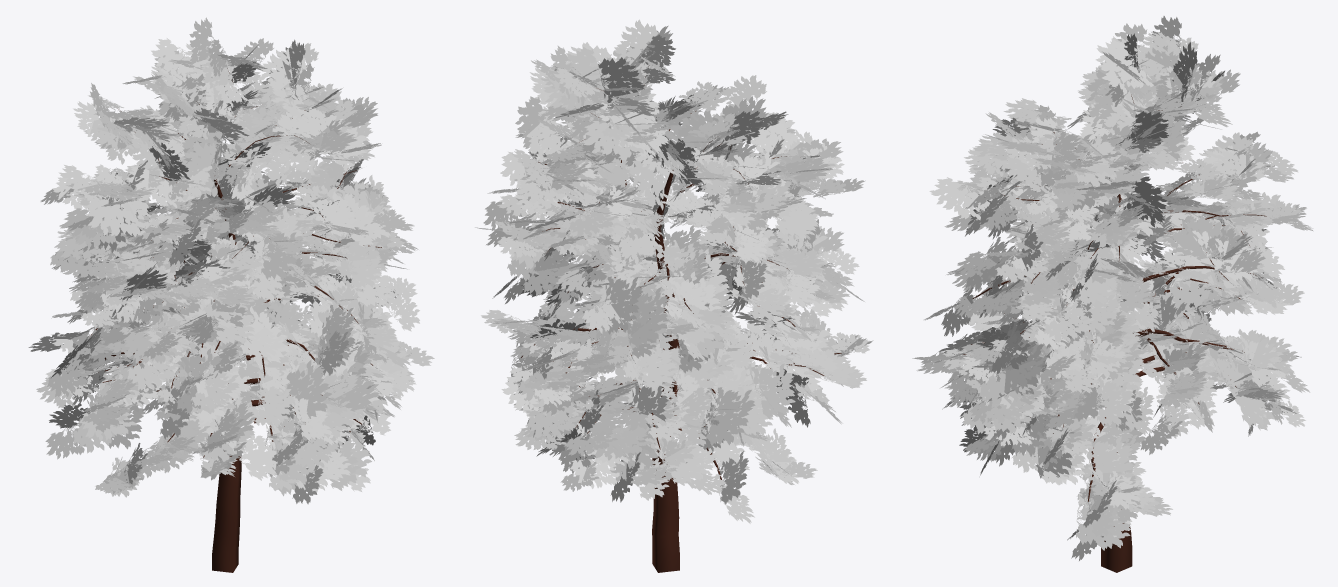
The model's file is Tree_2.fbx.
3 views of the same model, side by side, from view 1: azimuth 30°, elevation 25°; view 2: azimuth 150°, elevation 25°; view 3: azimuth 270°, elevation 25° (orthographic). The views are drawn at different scales.
Parts seen in each view (by area): view 1: Tree2; view 2: Tree2; view 3: Tree2.
Part boxes in pixels (x1,y1,x2,y2): Tree2: (28, 17, 434, 572); Tree2: (475, 19, 873, 572); Tree2: (912, 16, 1313, 572).
Size of the model in its own units: 2177 by 3166 by 2241.
